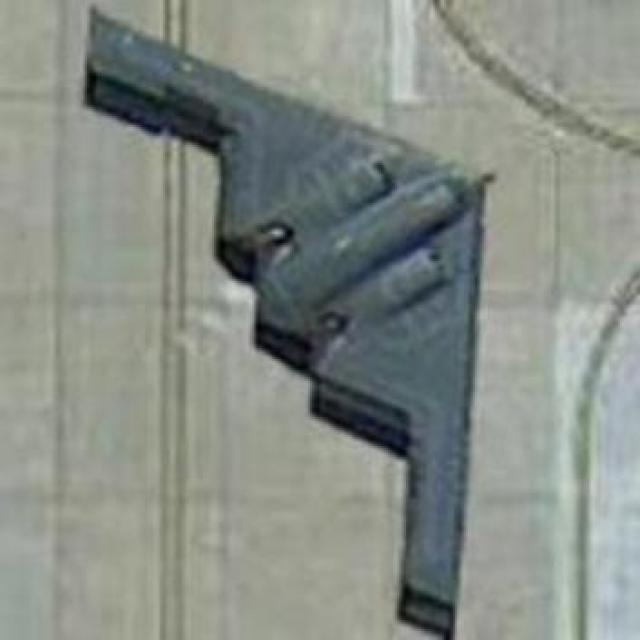B-2_TopDown: (78, 2, 499, 638)
